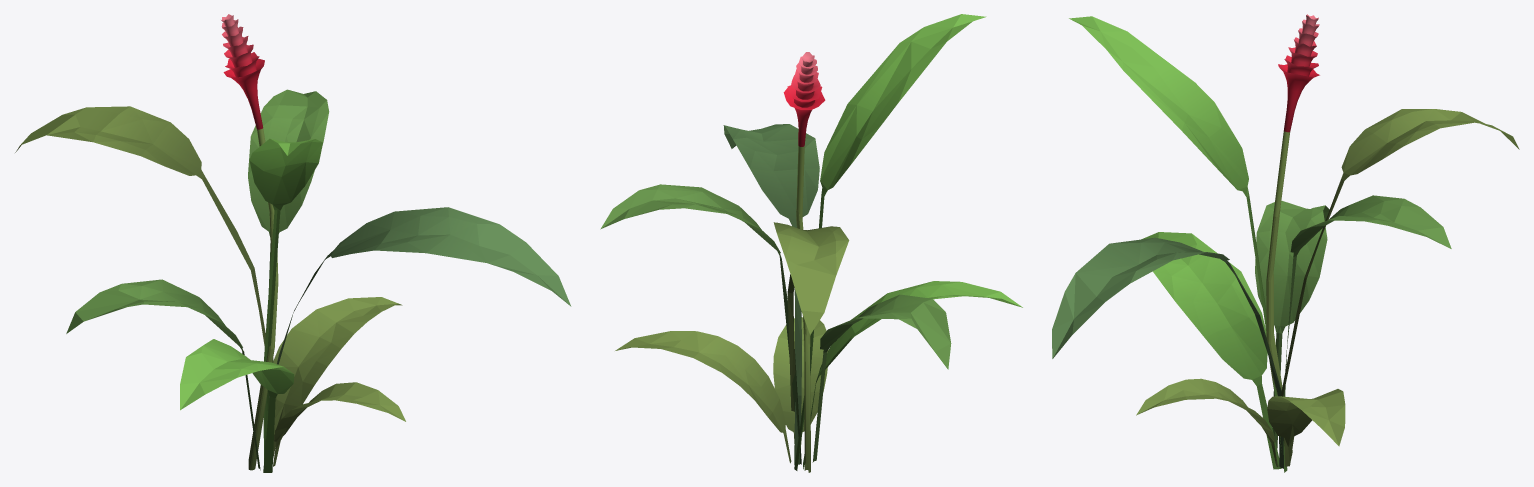
The model's file is Jungle_TallLeaf_C.fbx.
The picture shows the model from 3 angles, left to right: view 1: azimuth 30°, elevation 25°; view 2: azimuth 150°, elevation 25°; view 3: azimuth 270°, elevation 25°; orthographic projection. The views are drawn at different scales.
Parts seen in each view (by area): view 1: Jungle_TallLeaf_C; view 2: Jungle_TallLeaf_C; view 3: Jungle_TallLeaf_C.
Boxes of the visible parts, x1,y1,x2,y2 form: Jungle_TallLeaf_C: (15,14,571,472); Jungle_TallLeaf_C: (600,14,1022,472); Jungle_TallLeaf_C: (1052,14,1519,472).
Bounding box in the file's own units: 1.71 × 2.01 × 1.92.
